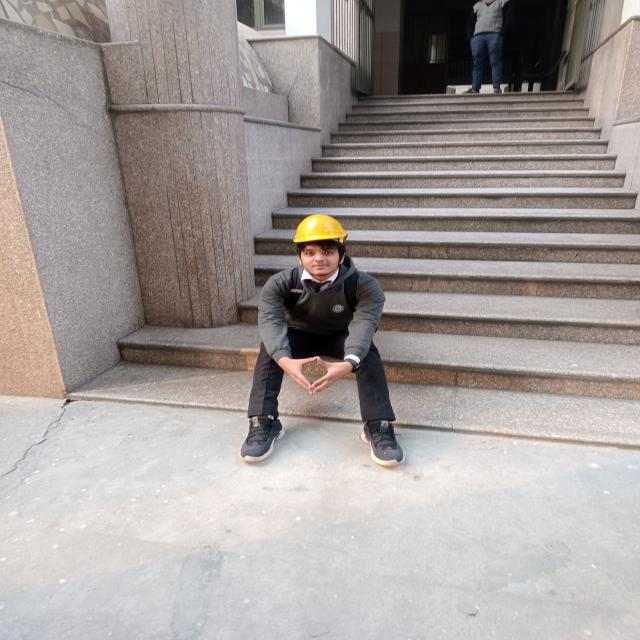no jacket: (234, 208, 416, 470)
unsafe: (469, 0, 505, 94)
